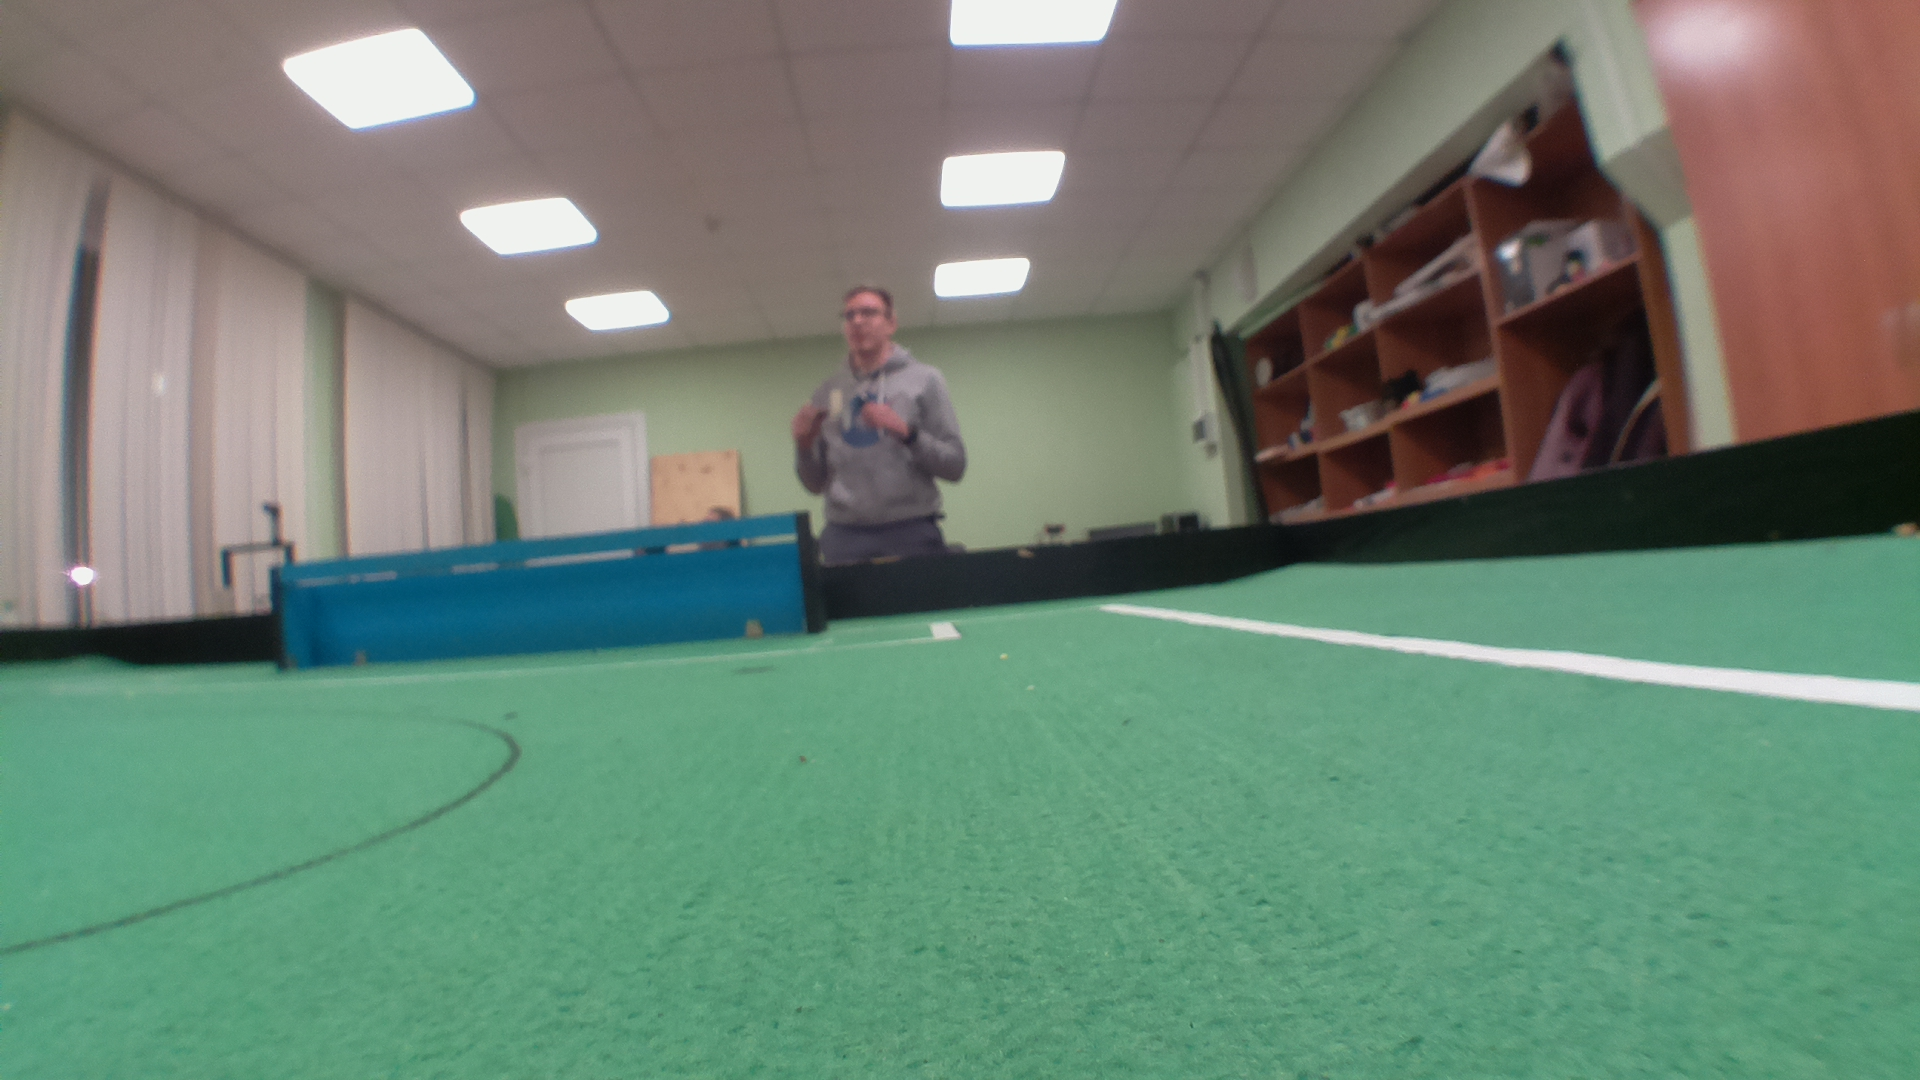BlueGoal: (286, 516, 796, 670)
